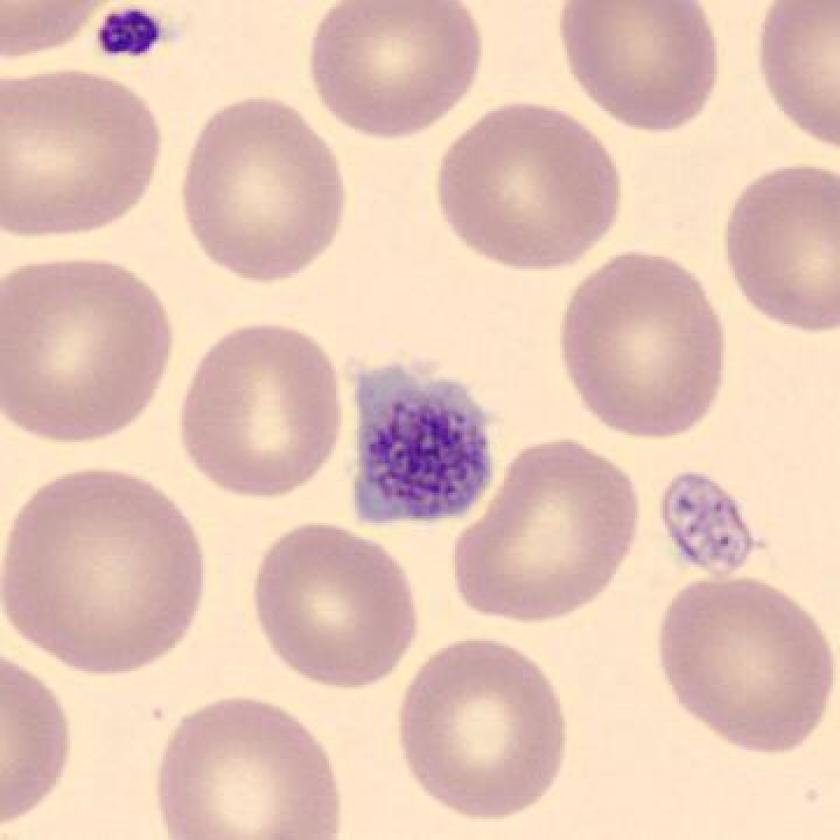platelets: (328, 348, 510, 533), (85, 1, 181, 66)
